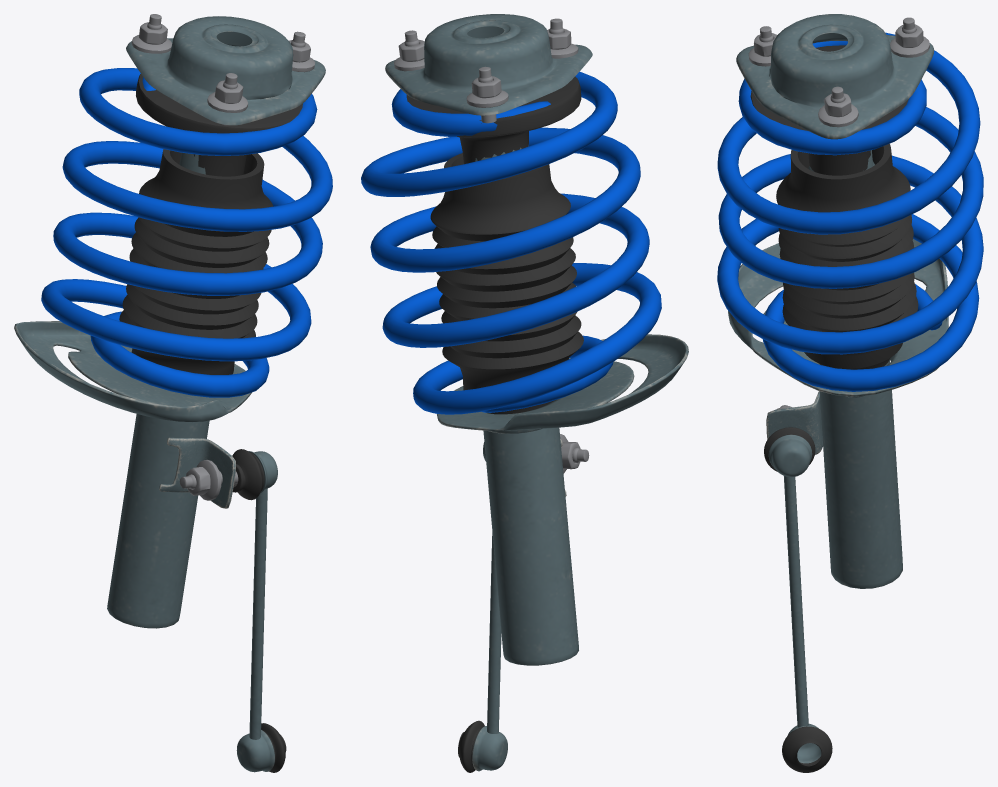
Rendered from details.fbx.
The picture shows the model from 3 angles, left to right: view 1: azimuth 30°, elevation 25°; view 2: azimuth 150°, elevation 25°; view 3: azimuth 270°, elevation 25°; orthographic projection. The views are drawn at different scales.
Parts seen in each view (by area): view 1: pered_hodovaya1:polySurface40, pered_hodovaya1:polySurface30, pered_hodovaya1:polySurface236, pered_hodovaya1:polySurface234, pered_hodovaya1:polySurface235, pered_hodovaya1:SM_SergaKrep, pered_hodovaya1:polySurface39, pered_hodovaya1:polySurface13; view 2: pered_hodovaya1:polySurface40, pered_hodovaya1:polySurface30, pered_hodovaya1:polySurface236, pered_hodovaya1:polySurface234, pered_hodovaya1:polySurface235, pered_hodovaya1:polySurface39, pered_hodovaya1:SM_SergaKrep; view 3: pered_hodovaya1:polySurface40, pered_hodovaya1:polySurface30, pered_hodovaya1:polySurface234, pered_hodovaya1:polySurface236, pered_hodovaya1:SM_SergaKrep, pered_hodovaya1:polySurface235, pered_hodovaya1:polySurface39, pered_hodovaya1:polySurface13, pered_hodovaya1:polySurface1, pered_hodovaya1:polySurface45, pered_hodovaya1:polySurface249, pered_hodovaya1:polySurface251.
Part boxes in pixels (<box>): pered_hodovaya1:polySurface40: <box>41,68,332,397</box>; pered_hodovaya1:polySurface30: <box>119,149,273,374</box>; pered_hodovaya1:polySurface236: <box>107,152,209,628</box>; pered_hodovaya1:polySurface234: <box>126,16,325,125</box>; pered_hodovaya1:polySurface235: <box>14,321,251,422</box>; pered_hodovaya1:SM_SergaKrep: <box>232,449,286,772</box>; pered_hodovaya1:polySurface39: <box>136,74,302,176</box>; pered_hodovaya1:polySurface13: <box>159,437,235,508</box>; pered_hodovaya1:polySurface40: <box>361,71,661,414</box>; pered_hodovaya1:polySurface30: <box>430,153,583,414</box>; pered_hodovaya1:polySurface236: <box>475,145,578,665</box>; pered_hodovaya1:polySurface234: <box>385,14,592,115</box>; pered_hodovaya1:polySurface235: <box>437,334,688,433</box>; pered_hodovaya1:polySurface39: <box>406,76,581,164</box>; pered_hodovaya1:SM_SergaKrep: <box>458,442,507,772</box>; pered_hodovaya1:polySurface40: <box>717,32,983,391</box>; pered_hodovaya1:polySurface30: <box>776,143,918,369</box>; pered_hodovaya1:polySurface234: <box>736,14,934,139</box>; pered_hodovaya1:polySurface236: <box>808,150,902,588</box>; pered_hodovaya1:SM_SergaKrep: <box>764,427,832,772</box>; pered_hodovaya1:polySurface235: <box>728,239,948,397</box>; pered_hodovaya1:polySurface39: <box>750,45,908,175</box>; pered_hodovaya1:polySurface13: <box>766,391,822,454</box>; pered_hodovaya1:polySurface1: <box>818,104,858,127</box>; pered_hodovaya1:polySurface45: <box>890,36,929,57</box>; pered_hodovaya1:polySurface249: <box>895,24,923,47</box>; pered_hodovaya1:polySurface251: <box>824,93,851,117</box>.
Bounding box in the file's own units: 21.04 × 53.22 × 17.72.
4 materials, 1 textured.
